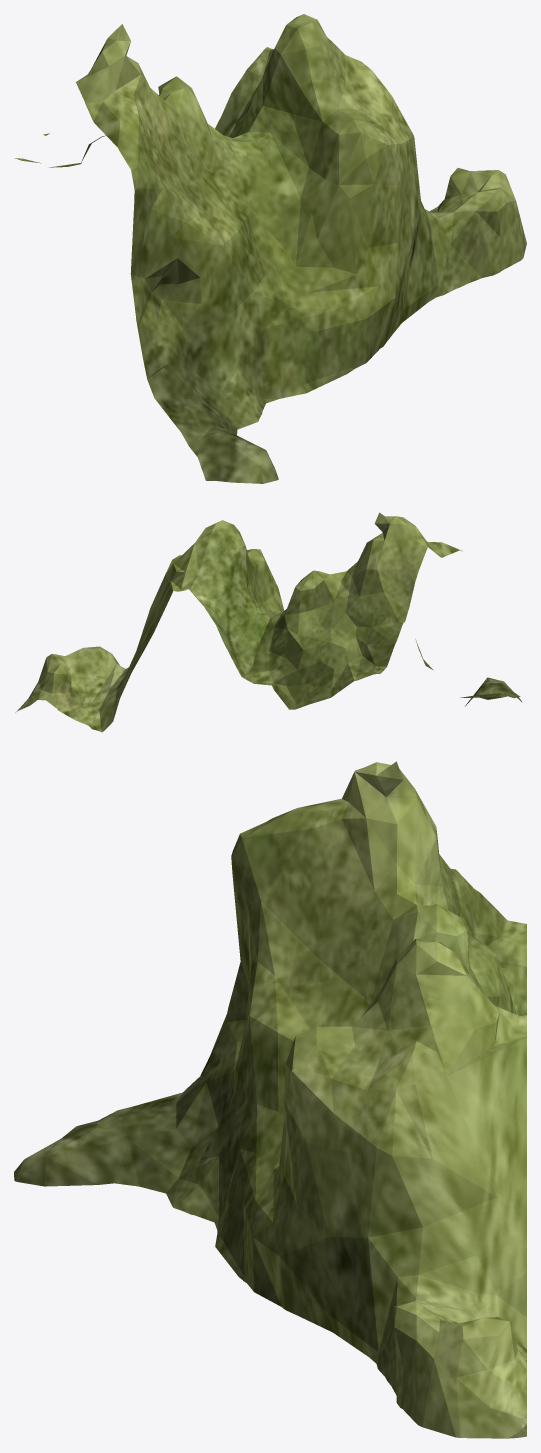
The picture shows the model from 3 angles, top to bottom: view 1: azimuth 30°, elevation 25°; view 2: azimuth 150°, elevation 25°; view 3: azimuth 270°, elevation 25°; orthographic projection. The views are drawn at different scales.
Size of the model in its own units: 2.66 by 1.79 by 1.98.
Materials: 2 (2 with a texture image).
